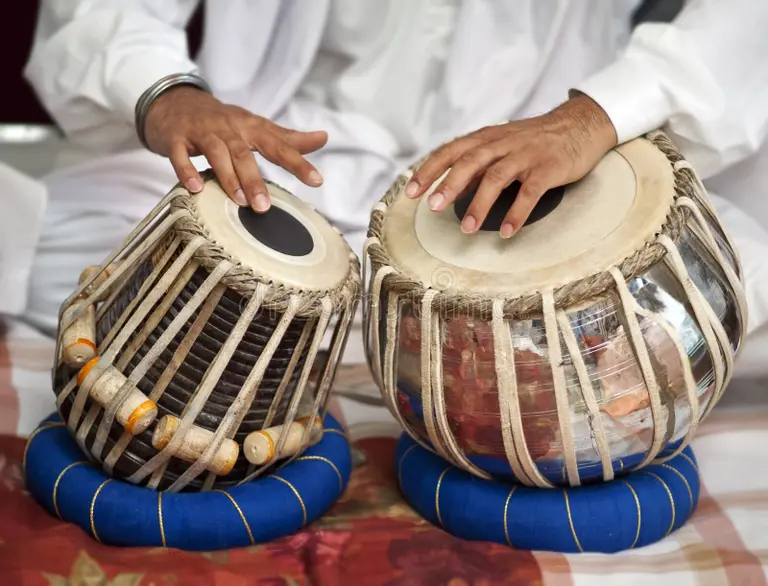tabla: (366, 121, 743, 478), (49, 168, 352, 492)
